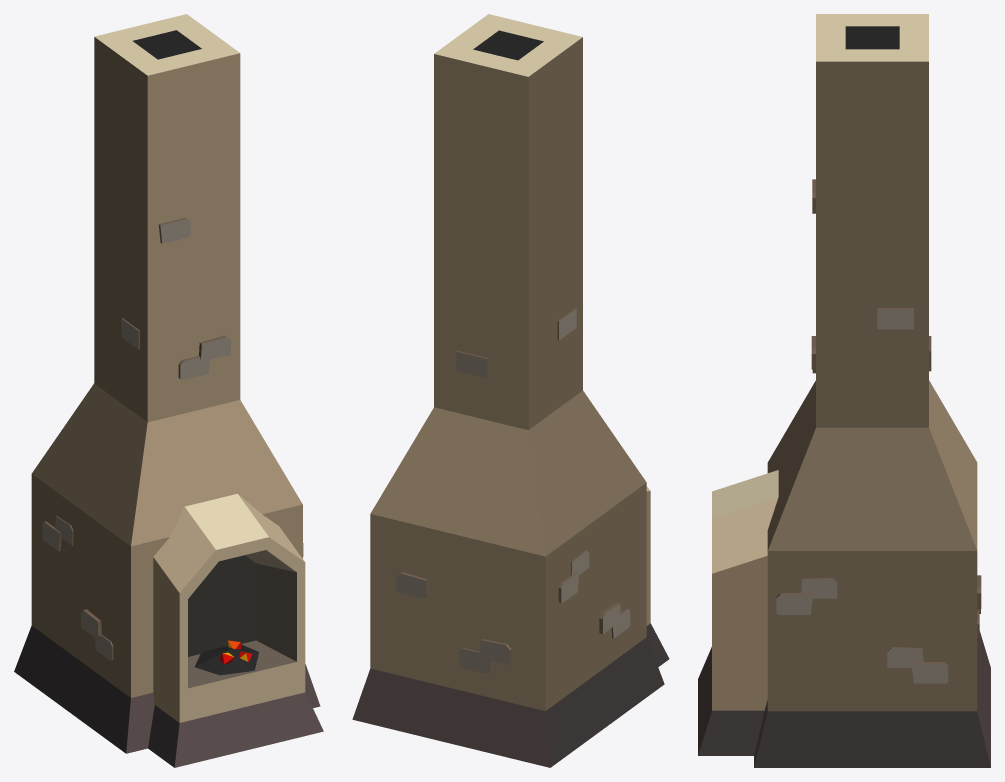
File: TB_D_Bd_Kiln.FBX
The picture shows the model from 3 angles, left to right: view 1: azimuth 30°, elevation 25°; view 2: azimuth 150°, elevation 25°; view 3: azimuth 270°, elevation 25°; orthographic projection. The views are drawn at different scales.
Visible parts, largest first — view 1: TB_D_Bd_Kiln; view 2: TB_D_Bd_Kiln; view 3: TB_D_Bd_Kiln.
Boxes of the visible parts, box(x1,y1,x2,y2) form: TB_D_Bd_Kiln: box(14, 14, 323, 767); TB_D_Bd_Kiln: box(352, 14, 669, 767); TB_D_Bd_Kiln: box(698, 14, 990, 767).
Size of the model in its own units: 2.26 by 7.16 by 2.8.
